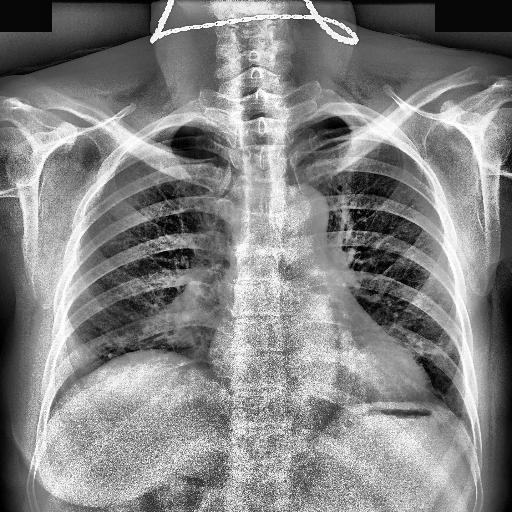0- Aortic enlargement: (274, 184, 331, 250), (275, 180, 328, 240), (280, 186, 330, 248)
3- Cardiomegaly: (208, 332, 434, 408), (205, 341, 438, 412)
